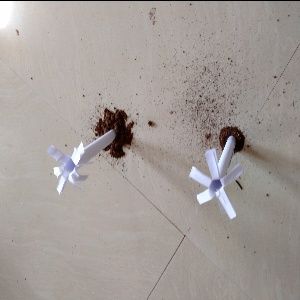weed: (190, 125, 252, 213), (43, 126, 130, 188)
